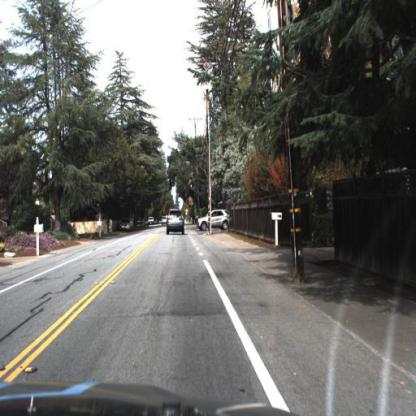car: (195, 208, 232, 230), (165, 204, 186, 233), (118, 215, 133, 232)
